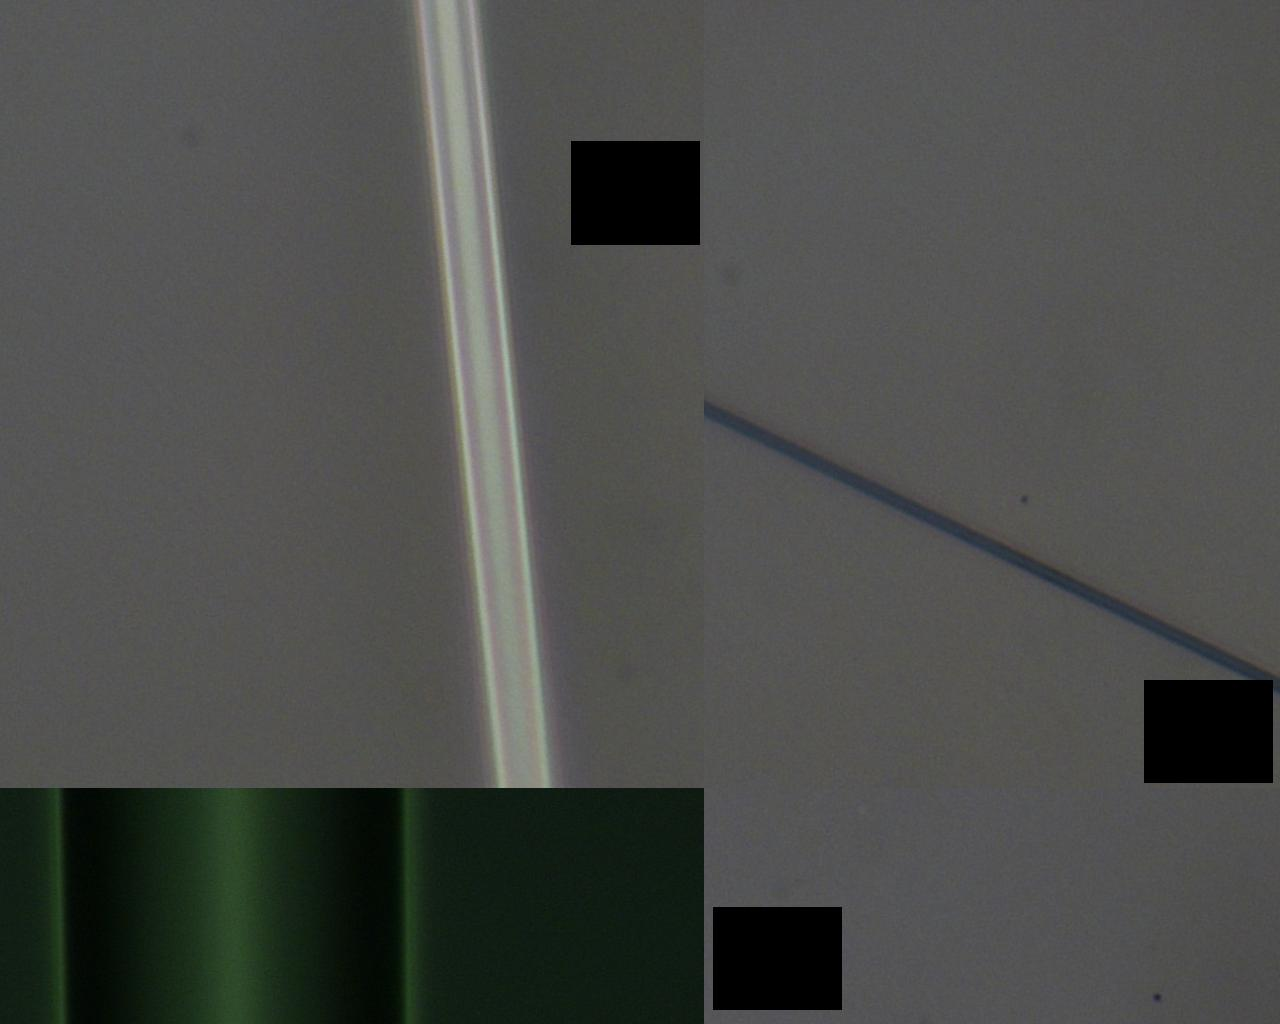fiber: (127, 438, 1151, 847)
